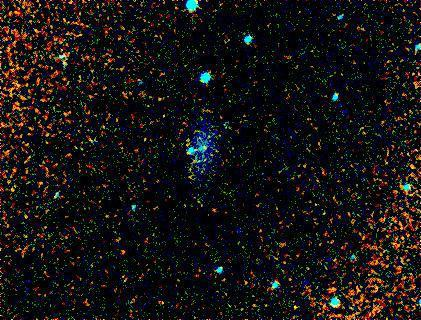star: (319, 272, 349, 302)
